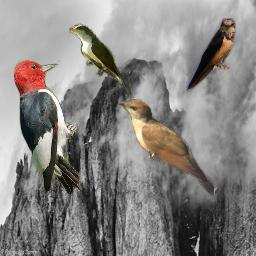Cuckoo: (117, 99, 214, 195), (69, 23, 135, 98)
Swallow: (186, 18, 236, 92)
Woodpecker: (14, 59, 84, 196)
